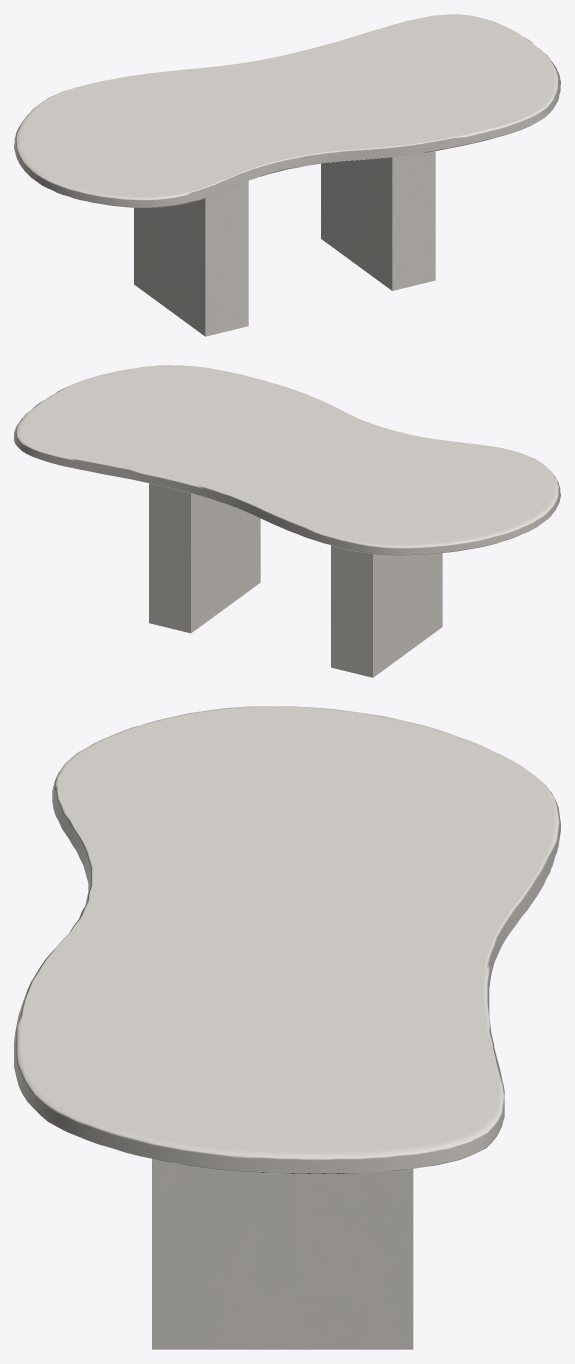
File: pearlwhite_wave_round_ridge.glb
The picture shows the model from 3 angles, top to bottom: view 1: azimuth 30°, elevation 25°; view 2: azimuth 150°, elevation 25°; view 3: azimuth 270°, elevation 25°; orthographic projection. The views are drawn at different scales.
Parts seen in each view (by area): view 1: round_wave, ridge; view 2: round_wave, ridge; view 3: round_wave, ridge.
Boxes of the visible parts, left/top/right/bottom form: round_wave: left=14, top=14, right=560, bottom=207; ridge: left=134, top=151, right=435, bottom=336; round_wave: left=14, top=365, right=560, bottom=555; ridge: left=149, top=483, right=442, bottom=677; round_wave: left=14, top=706, right=560, bottom=1173; ridge: left=152, top=1159, right=413, bottom=1349.
Bounding box in the file's own units: 7.7 × 2.5 × 3.89.
1 material, 1 textured.
